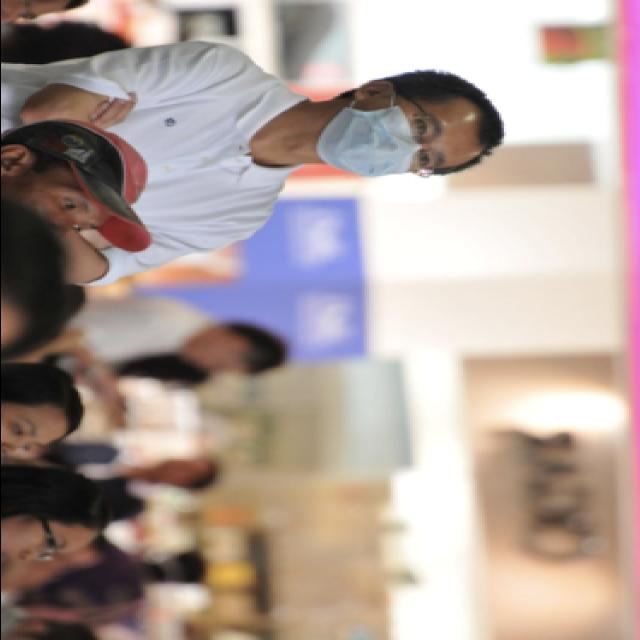mask: (318, 96, 450, 178)
no_mask: (2, 515, 72, 565), (2, 406, 46, 454)
